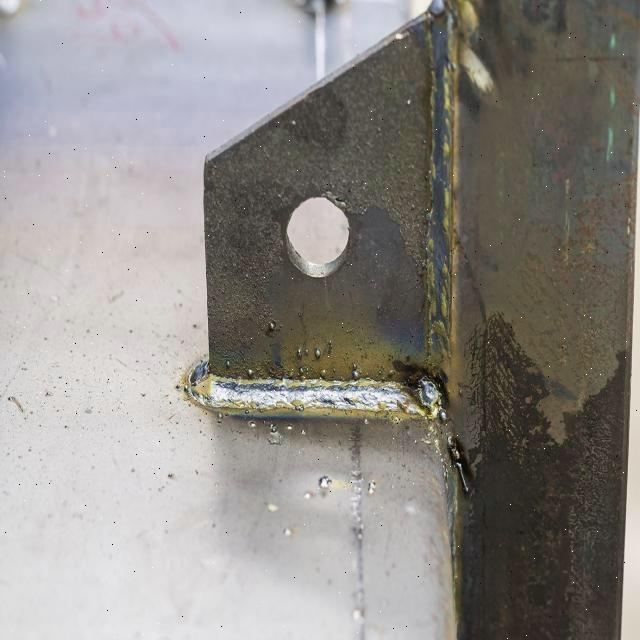Good Welding: (178, 360, 447, 440)
